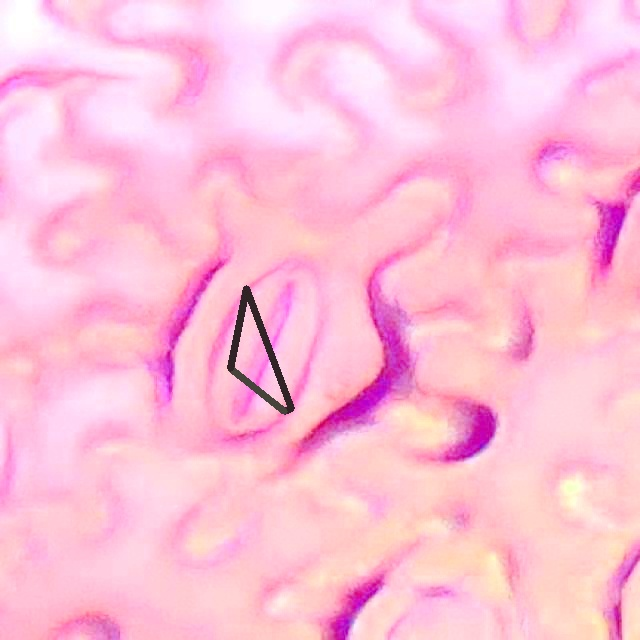open: (227, 285, 294, 414)
